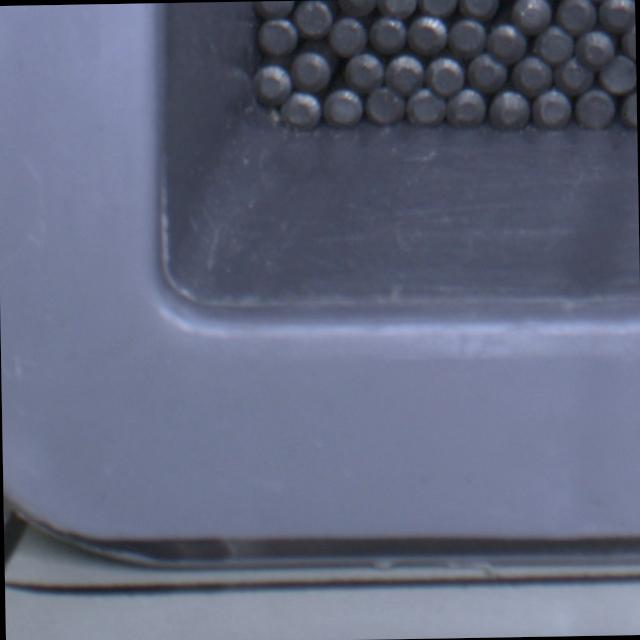tool: (573, 87, 615, 128), (488, 89, 530, 130), (486, 21, 528, 61), (510, 54, 552, 94), (252, 64, 292, 106), (445, 88, 486, 128), (575, 28, 616, 68), (407, 14, 448, 54), (384, 52, 425, 92), (278, 90, 320, 129), (531, 88, 571, 128), (468, 52, 508, 92), (292, 51, 332, 91), (552, 55, 594, 93), (425, 54, 464, 94), (406, 86, 446, 125), (329, 16, 368, 56), (324, 86, 364, 125), (534, 24, 574, 62), (366, 86, 406, 124), (344, 52, 384, 90), (258, 17, 298, 55), (597, 54, 636, 92), (449, 16, 487, 54), (370, 15, 408, 52), (557, 0, 598, 33), (294, 0, 333, 34), (511, 0, 552, 32), (598, 0, 635, 30), (252, 1, 296, 16), (376, 0, 417, 16), (460, 0, 500, 16), (621, 90, 637, 130), (333, 0, 376, 14), (620, 25, 636, 62), (419, 0, 460, 14)
